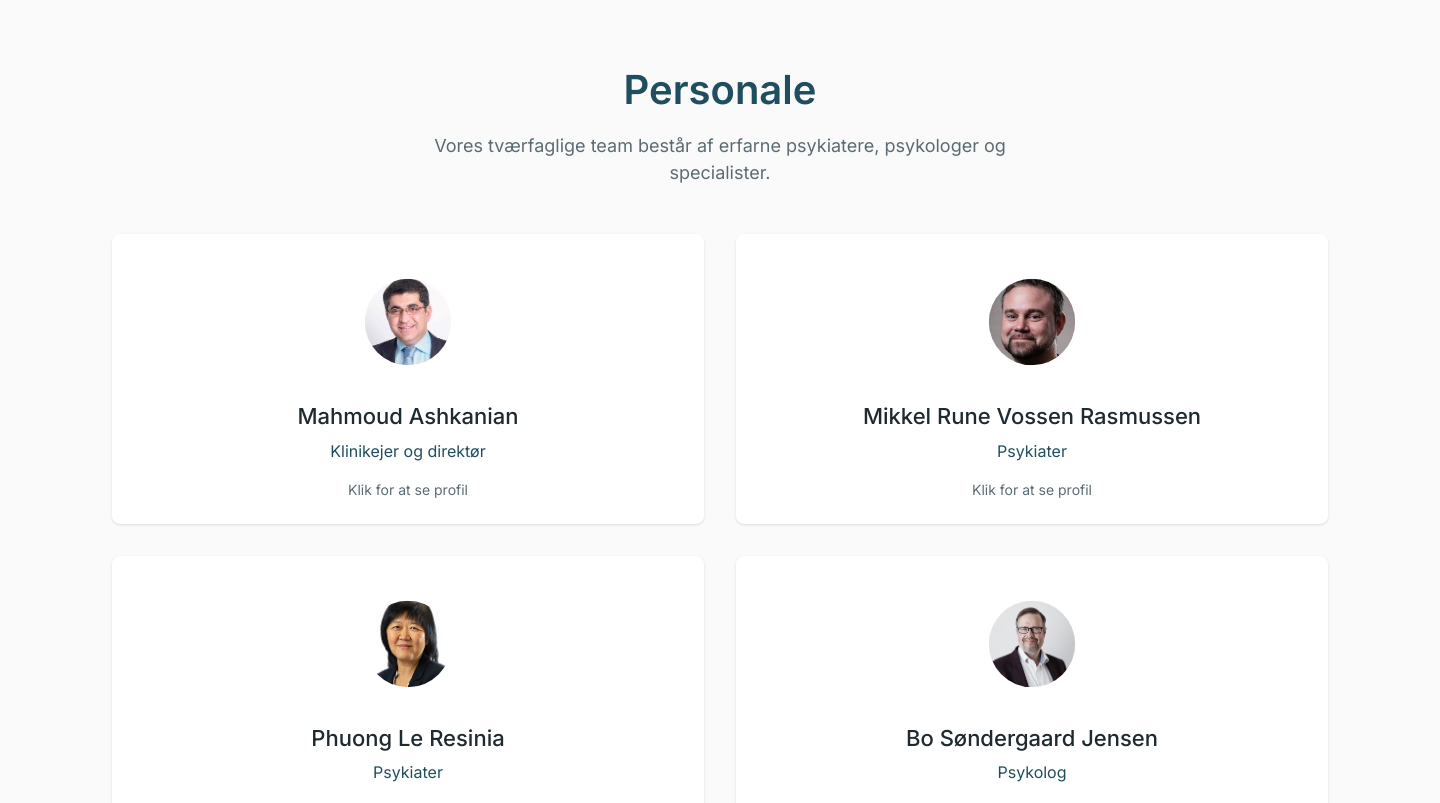
StaffPage › opens modal when staff card is clicked
The width and height of the screenshot is (1440, 803).
Click the button "Klik for at se profil" at (408,379), box [112, 234, 704, 524]
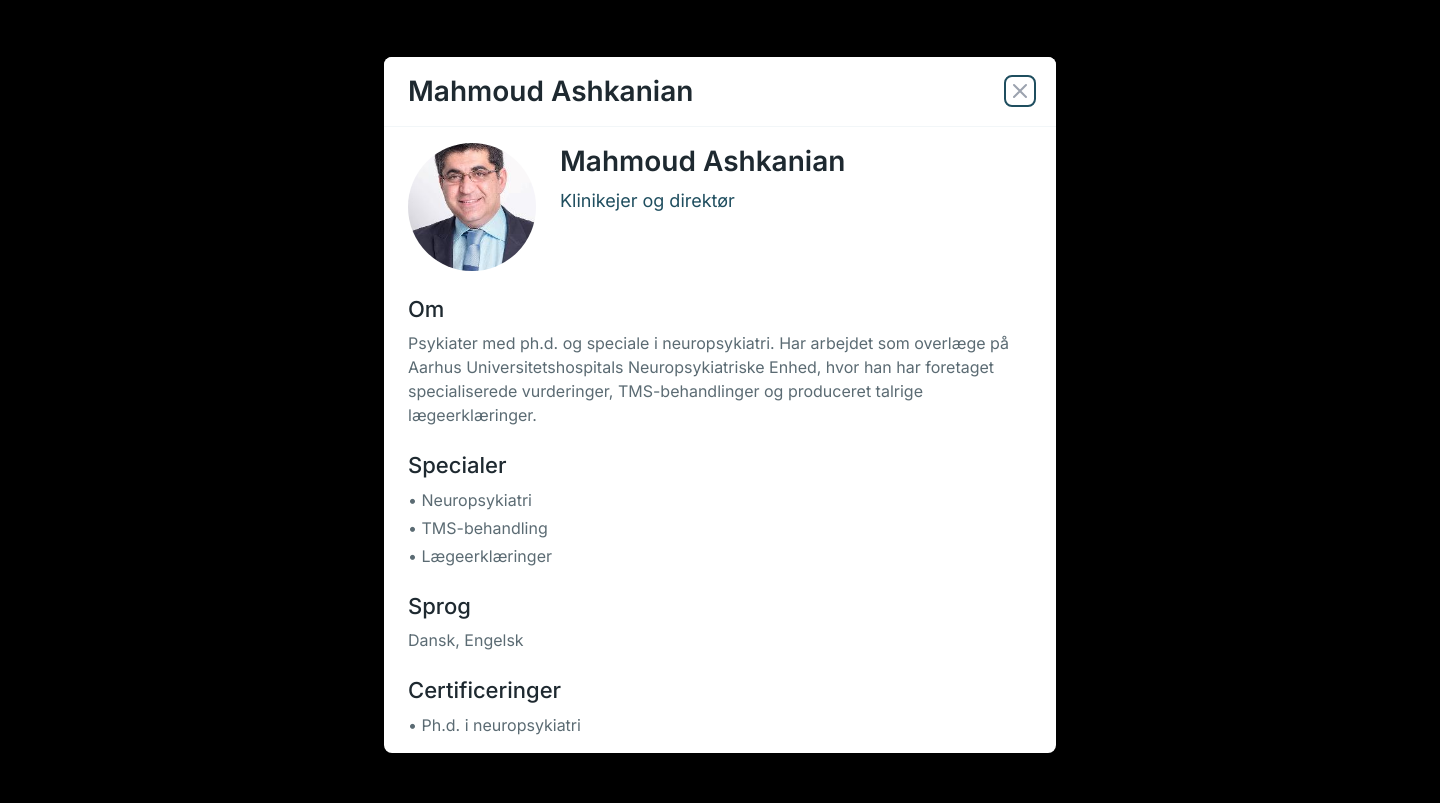
Result: the dialog is shown at [384, 57, 1056, 753]
